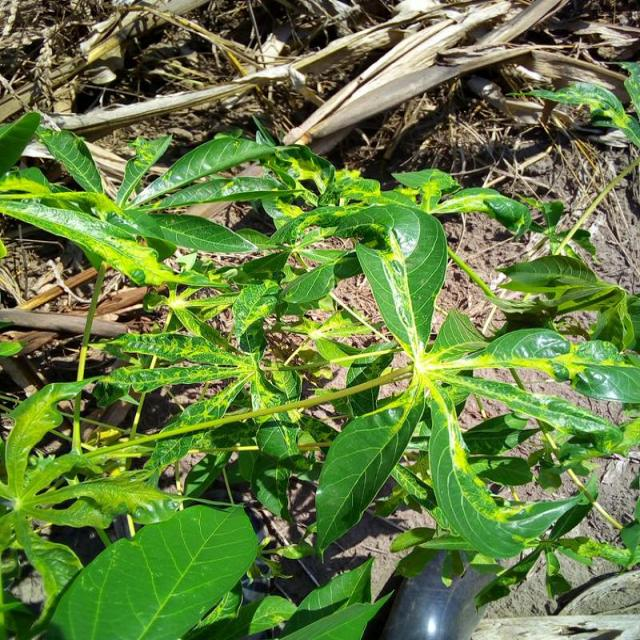cassava leaf: (0, 112, 638, 633), (44, 500, 258, 638), (314, 383, 426, 558), (353, 202, 447, 354)
